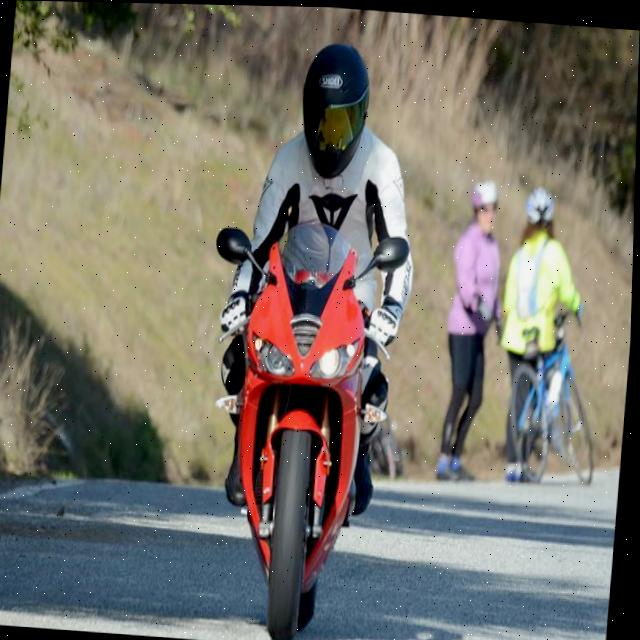motorcycle: (193, 225, 415, 640)
